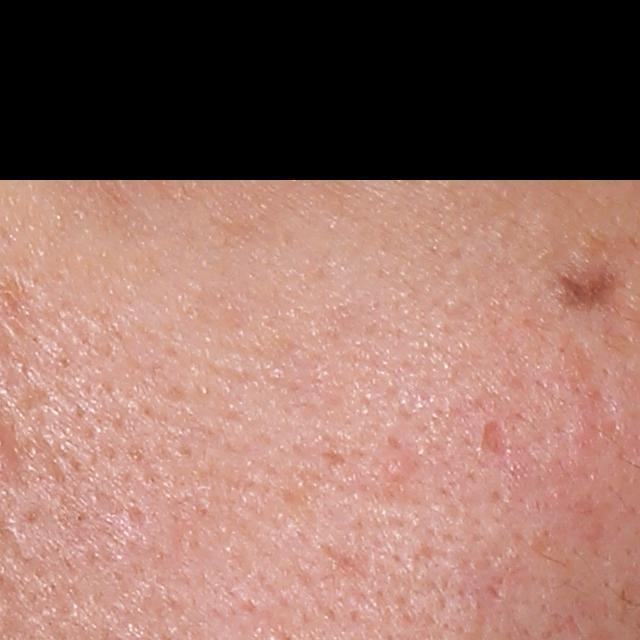atrophic_scar: (478, 417, 510, 463)
melasma: (538, 255, 629, 309)
